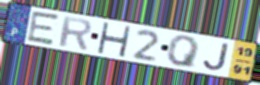2: (132, 29, 161, 62)
E: (25, 9, 63, 47)
H: (95, 20, 133, 58)
J: (202, 42, 232, 72)
Q: (166, 35, 202, 70)
R: (58, 15, 93, 51)
